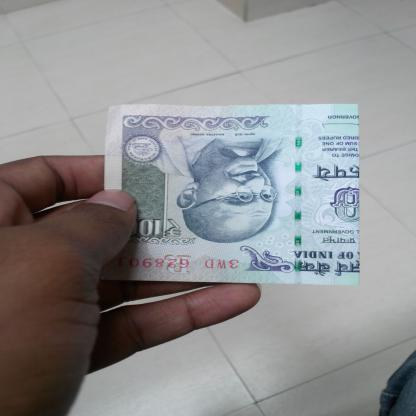Old100Front: (102, 103, 362, 286)
